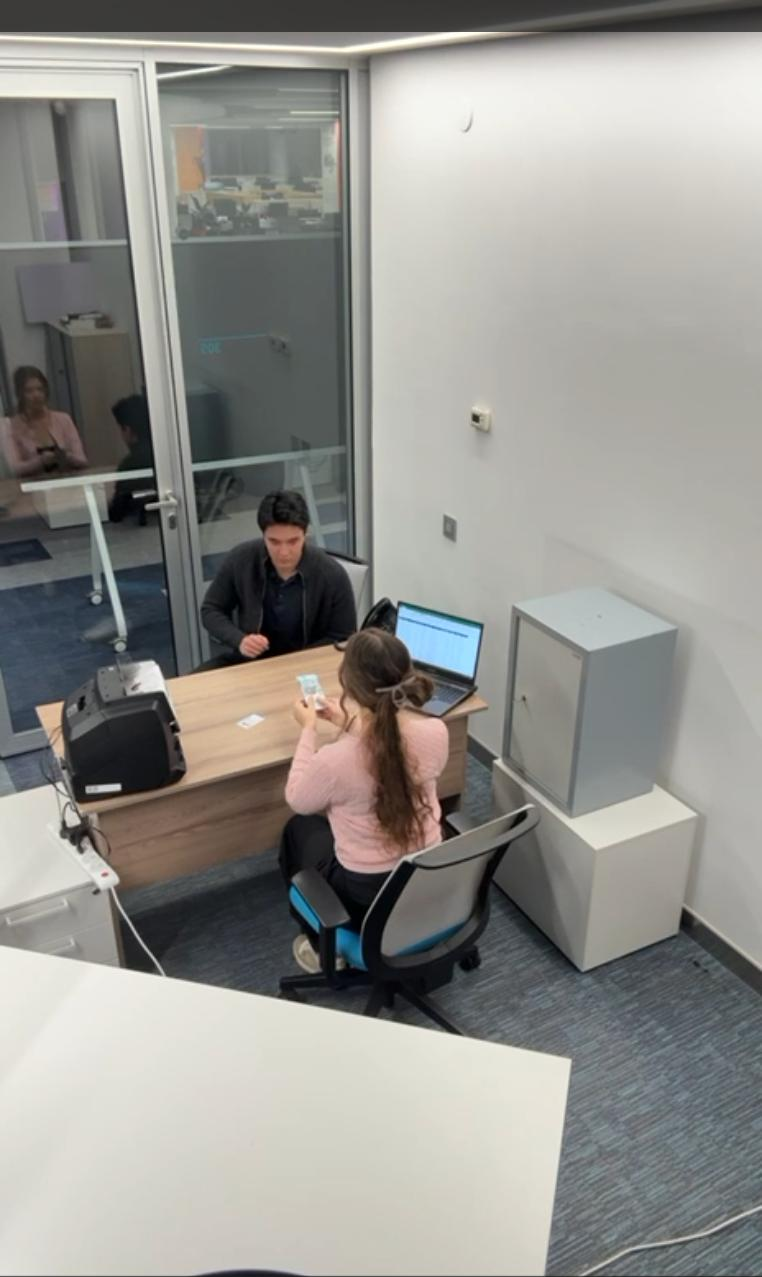cash_stack: (288, 668, 330, 716)
counter: (57, 654, 192, 808)
document: (224, 700, 278, 742)
key_in: (503, 681, 538, 714)
screen_on: (393, 608, 481, 679)
